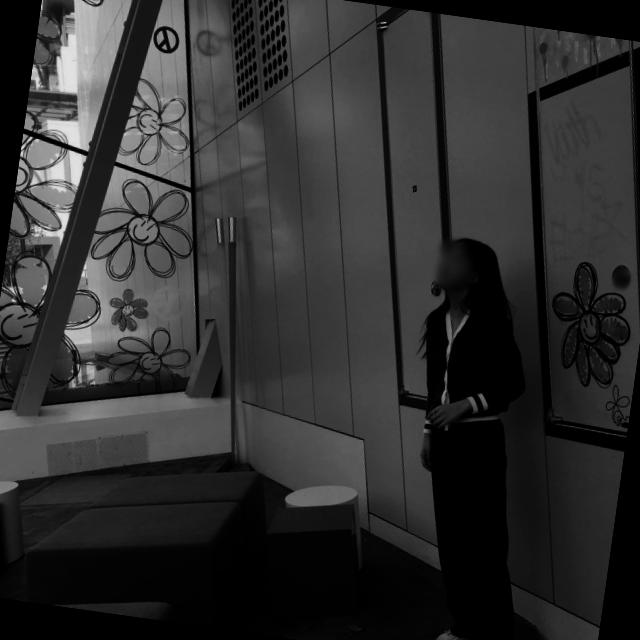cardigan: (412, 294, 536, 448)
slacks: (399, 412, 544, 640)
